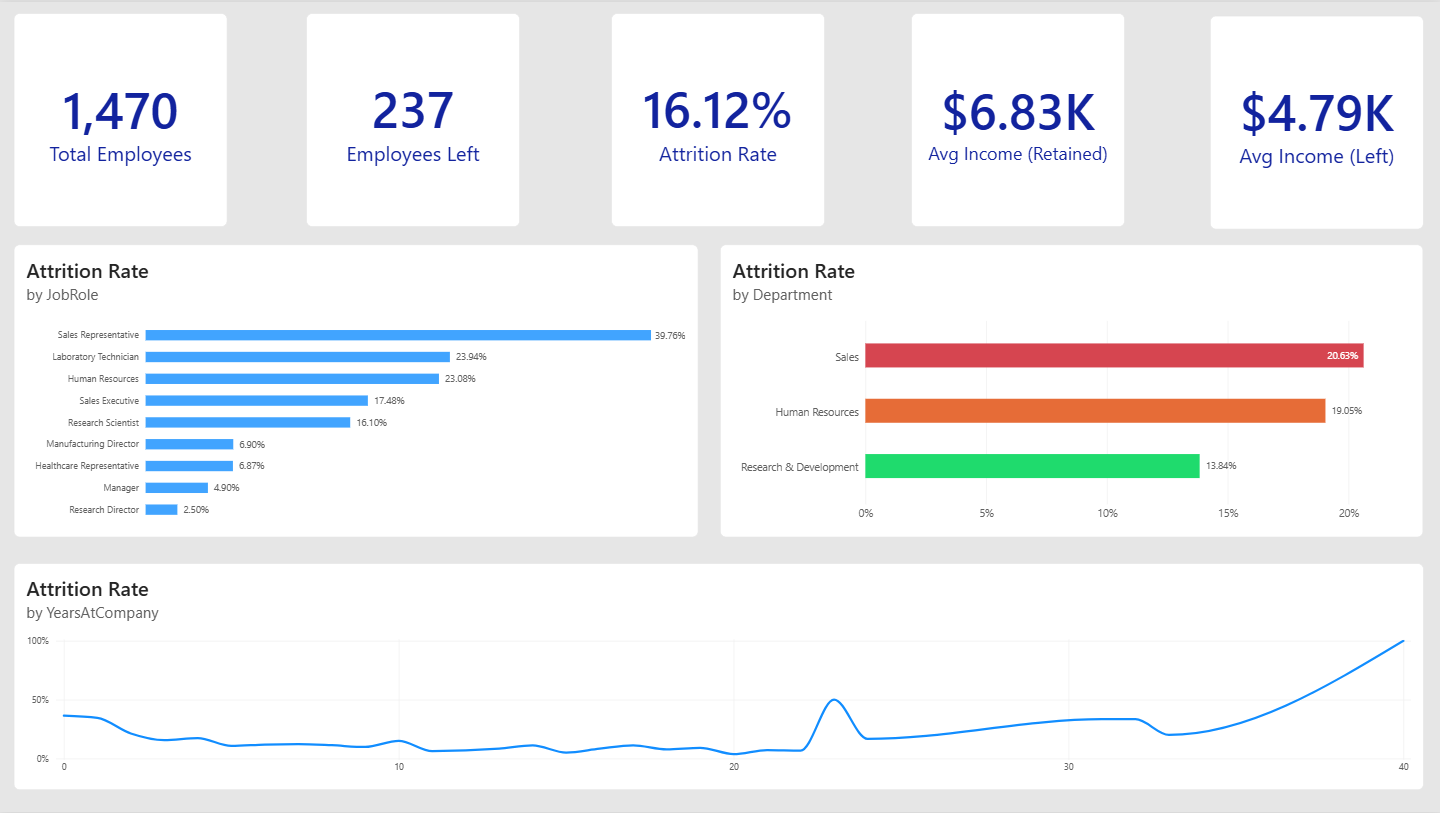

The dashboard page shown, as its layout file describes it:
{"tool":"powerbi","page":{"name":"Executive Overview","canvas":[1280,720],"ordinal":0},"visuals":[{"type":"card","fields":{"Values":["_Meaures.Attrition Rate"]},"box":[1081.4,14.3,180,165.7],"z":0},{"type":"card","fields":{"Values":["_Meaures.Avg Income"]},"box":[282.9,14.3,180,165.7],"z":1000},{"type":"card","fields":{"Values":["_Meaures.Avg Tenure"]},"box":[550,14.3,180,165.7],"z":2000},{"type":"card","fields":{"Values":["_Meaures.Employees Left"]},"box":[841.4,14.3,180,165.7],"z":3000},{"type":"card","fields":{"Values":["_Meaures.Total Employees"]},"box":[18.6,14.3,180,165.7],"z":4000},{"type":"clusteredBarChart","fields":{"Category":["JobDetails.Department"],"Y":["_Meaures.Attrition Rate"]},"box":[777.1,207.1,490,250],"z":5000},{"type":"lineChart","fields":{"Category":["JobDetails.YearsAtCompany"],"Y":["_Meaures.Attrition Rate"]},"box":[18.6,207.1,745.7,250],"z":6000},{"type":"barChart","fields":{"Category":["JobDetails.JobRole"],"Y":["_Meaures.Attrition Rate"]},"box":[18.6,468.6,1242.9,234.3],"z":7000}]}

Visuals, with their boxes in screenshot pixels (x1, y1, x2, y2), scaled from the page's 1280x720 canvas onto the 1440x813 screenshot:
card - _Meaures.Attrition Rate: <box>1217,16,1419,203</box>
card - _Meaures.Avg Income: <box>318,16,521,203</box>
card - _Meaures.Avg Tenure: <box>619,16,821,203</box>
card - _Meaures.Employees Left: <box>947,16,1149,203</box>
card - _Meaures.Total Employees: <box>21,16,223,203</box>
clusteredBarChart - JobDetails.Department x _Meaures.Attrition Rate: <box>874,234,1425,516</box>
lineChart - JobDetails.YearsAtCompany x _Meaures.Attrition Rate: <box>21,234,860,516</box>
barChart - JobDetails.JobRole x _Meaures.Attrition Rate: <box>21,529,1419,794</box>
